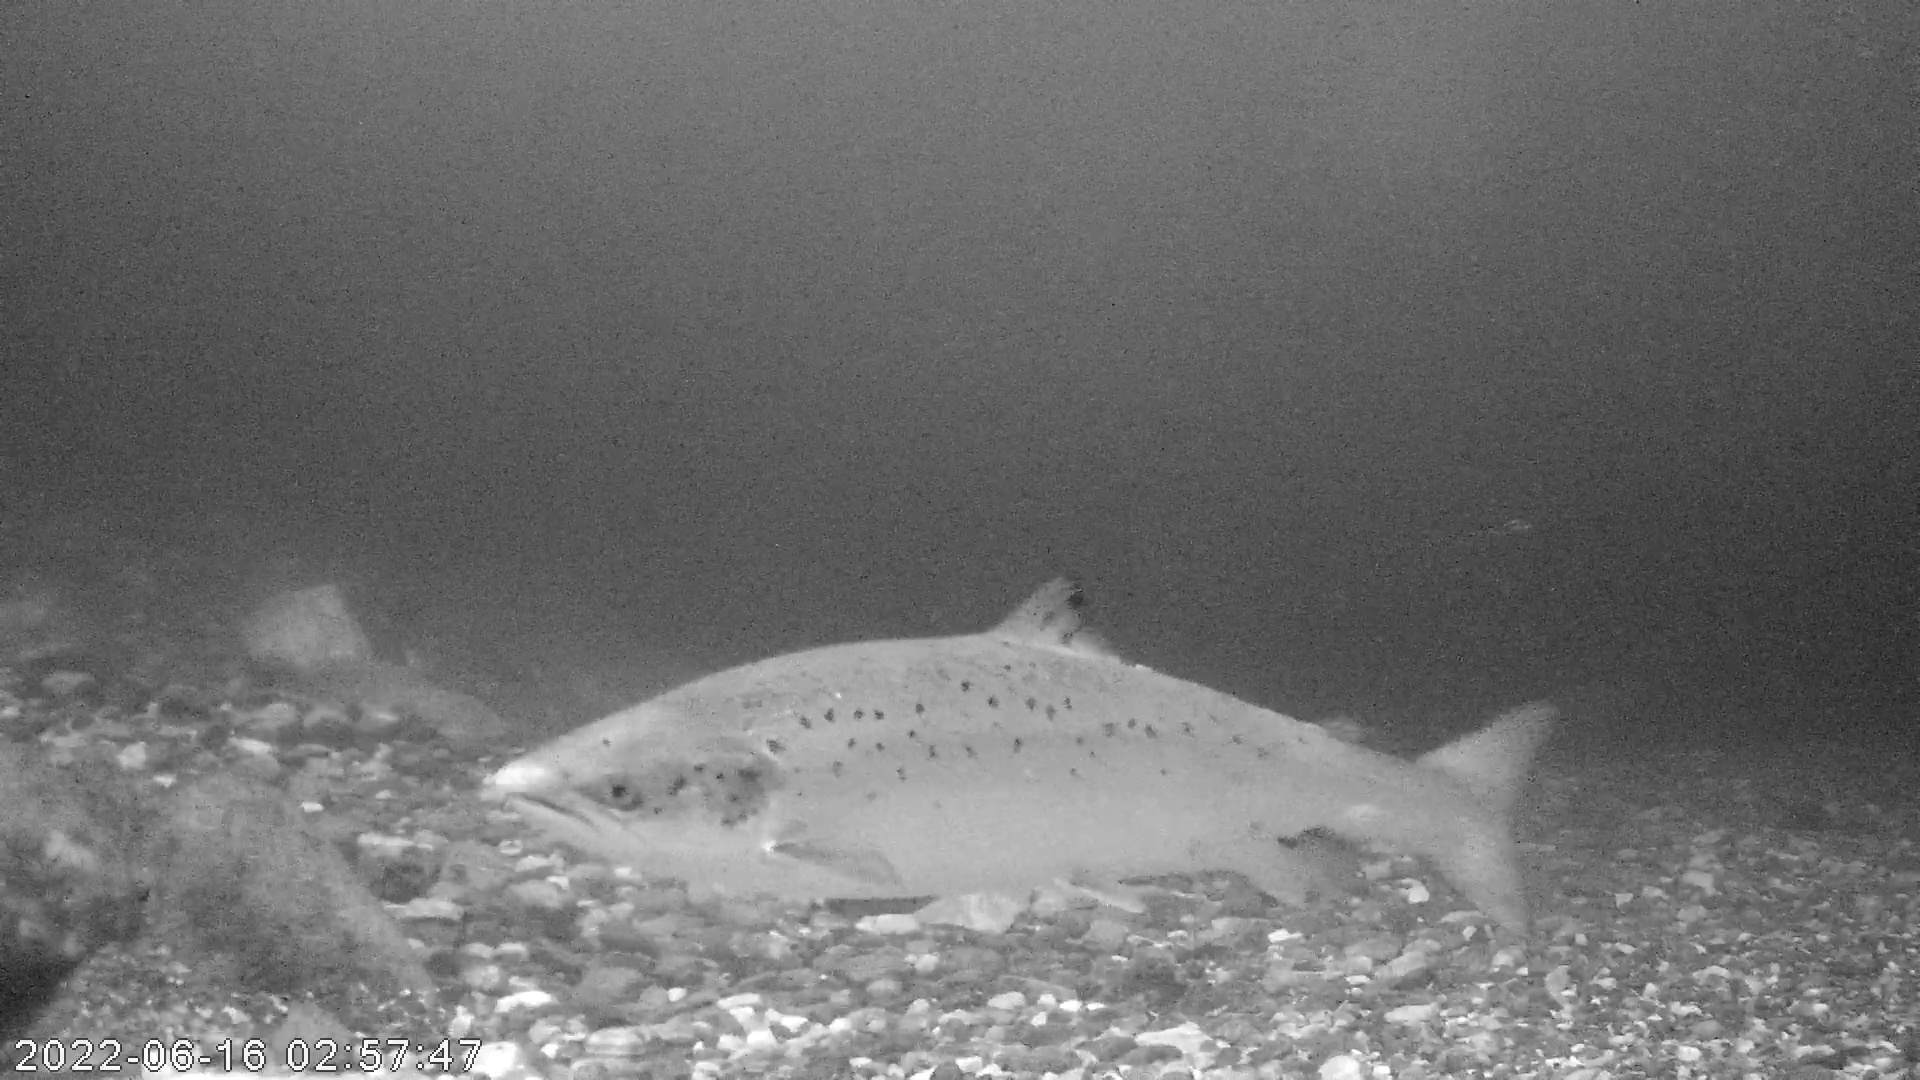salmon: (488, 567, 1559, 947)
